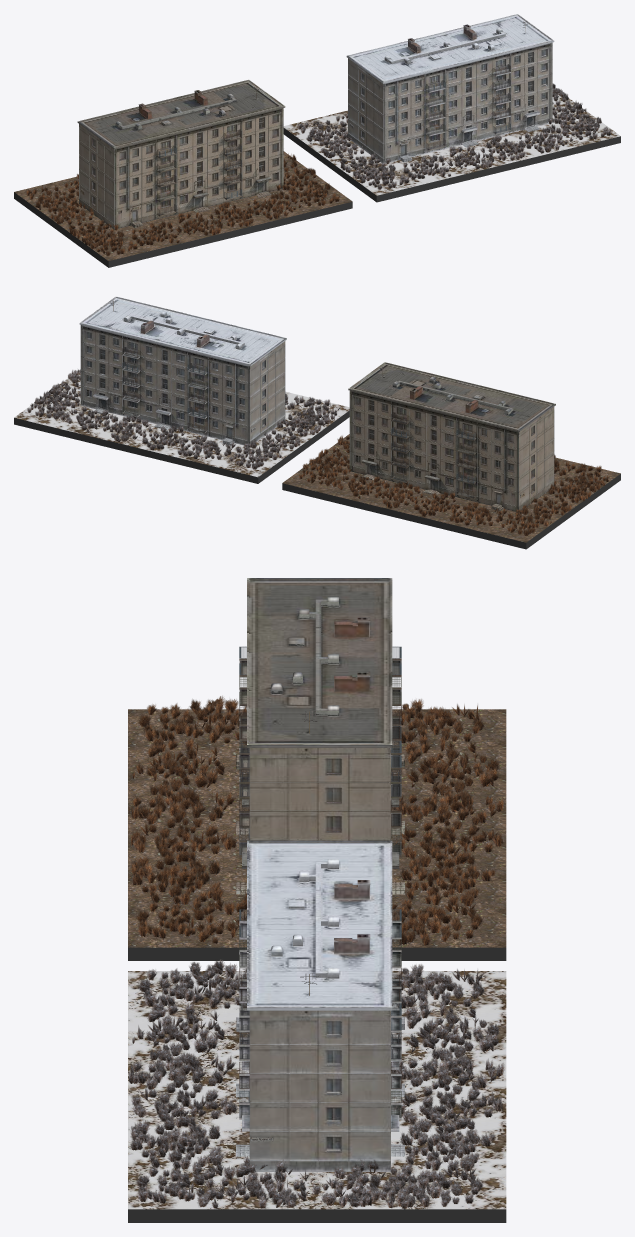
File: soviet_building.glb
3 views of the same model, one above another, from view 1: azimuth 30°, elevation 25°; view 2: azimuth 150°, elevation 25°; view 3: azimuth 270°, elevation 25° (orthographic). The views are drawn at different scales.
Visible parts, largest first — view 1: Cube_0, Cube.001_1, Plane.001_5, Grass_Autumn.007_3, Grass_Autumn.001_2, Plane_4, Plane.002_6, Plane.003_7; view 2: Cube_0, Cube.001_1, Grass_Autumn.001_2, Grass_Autumn.007_3, Plane.001_5, Plane_4, Plane.002_6, Plane.003_7; view 3: Cube.001_1, Cube_0, Grass_Autumn.001_2, Plane_4, Plane.001_5, Grass_Autumn.007_3, Plane.003_7, Plane.002_6.
Boxes of the visible parts, left/top/right/bottom form: Cube_0: left=77, top=79, right=285, bottom=229; Cube.001_1: left=346, top=14, right=554, bottom=163; Plane.001_5: left=14, top=151, right=352, bottom=260; Grass_Autumn.007_3: left=26, top=151, right=339, bottom=255; Grass_Autumn.001_2: left=297, top=83, right=611, bottom=189; Plane_4: left=283, top=88, right=620, bottom=195; Plane.002_6: left=14, top=192, right=352, bottom=267; Plane.003_7: left=283, top=128, right=620, bottom=202; Cube_0: left=348, top=362, right=555, bottom=511; Cube.001_1: left=79, top=296, right=286, bottom=445; Grass_Autumn.001_2: left=27, top=369, right=340, bottom=469; Grass_Autumn.007_3: left=299, top=435, right=609, bottom=535; Plane.001_5: left=282, top=434, right=620, bottom=542; Plane_4: left=14, top=369, right=349, bottom=477; Plane.002_6: left=282, top=474, right=620, bottom=549; Plane.003_7: left=14, top=410, right=349, bottom=483; Cube.001_1: left=236, top=840, right=404, bottom=1171; Cube_0: left=236, top=578, right=404, bottom=894; Grass_Autumn.001_2: left=128, top=959, right=504, bottom=1208; Plane_4: left=128, top=971, right=506, bottom=1209; Plane.001_5: left=128, top=709, right=506, bottom=947; Grass_Autumn.007_3: left=129, top=696, right=504, bottom=945; Plane.003_7: left=128, top=1209, right=506, bottom=1222; Plane.002_6: left=128, top=947, right=506, bottom=960.
Bounding box in the file's own units: 1.85 × 0.343 × 0.5902.
Materials: 8 (7 with a texture image).
